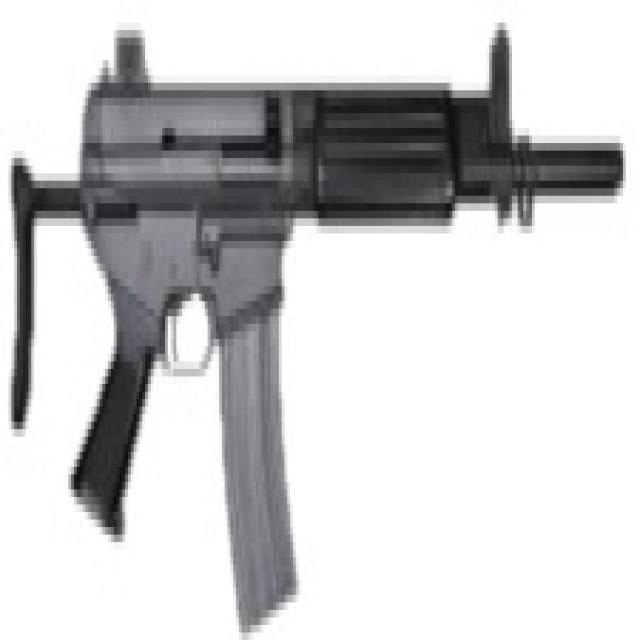rifle: (9, 8, 626, 637)
